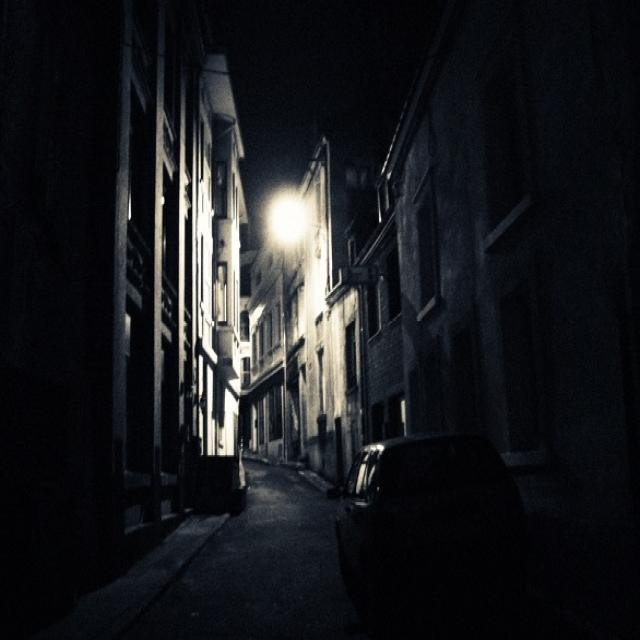Car: (328, 382, 554, 628)
